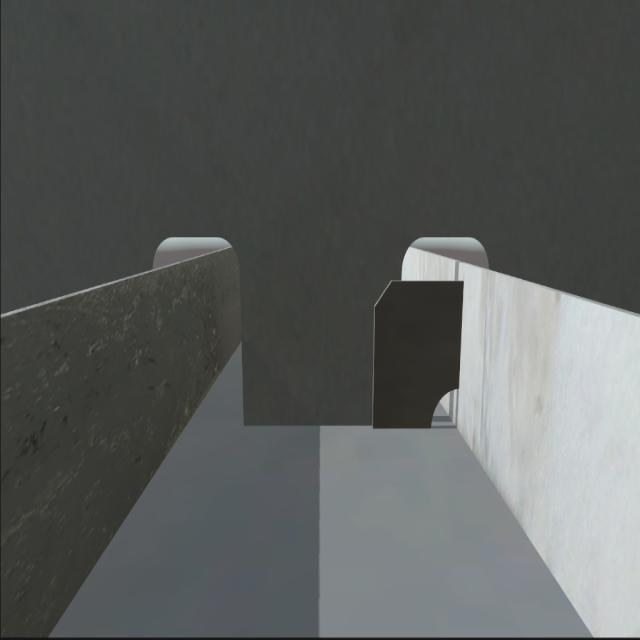fillet_hole: (431, 388, 458, 430)
fillet_yong_jeop_jang: (244, 409, 444, 439)
longi_yong_jeop_jang: (448, 275, 472, 383)
plate_CP03: (372, 278, 459, 430)
